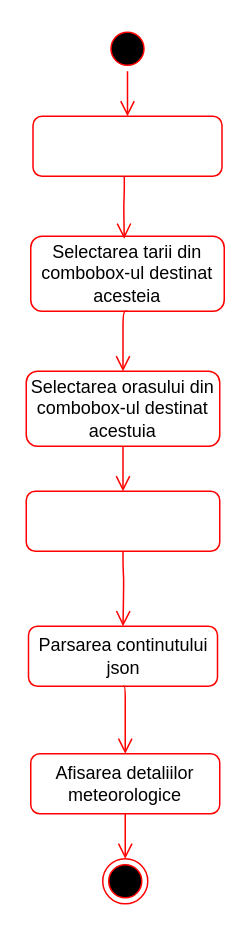
Some shapes in this 251 by 930 pixel diagram are drawn without their labels. The centre of each missing label's shape, as x and y in pixels:
Citirea fisierelor: the point at 127,145
Selectarea butonului de cautare: the point at 122,520
